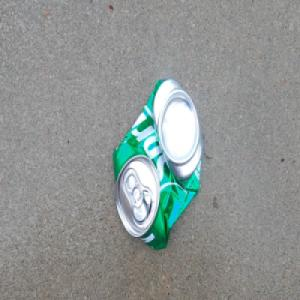SodaCan: (110, 78, 203, 254)
